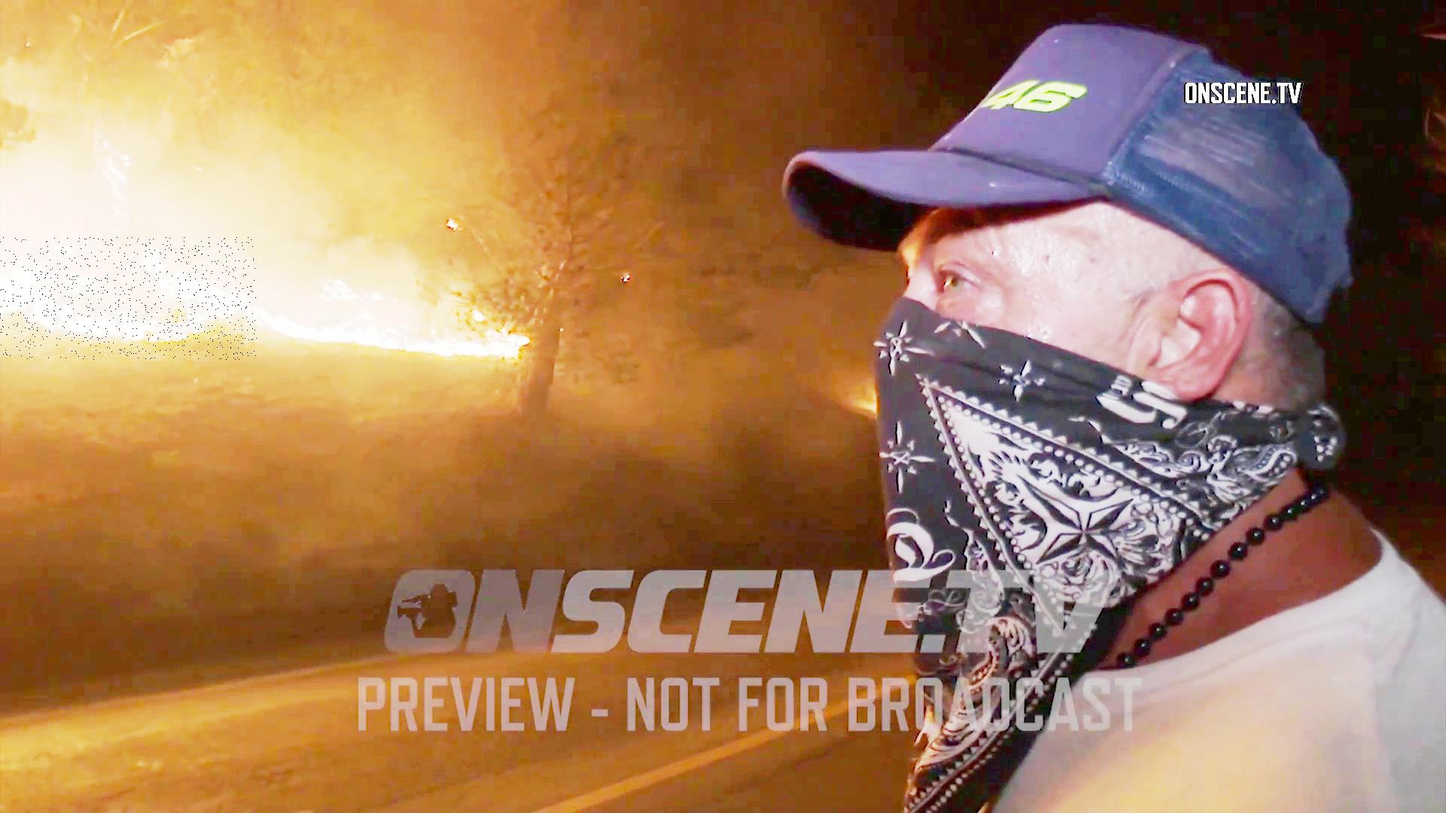fire: (0, 238, 257, 360)
